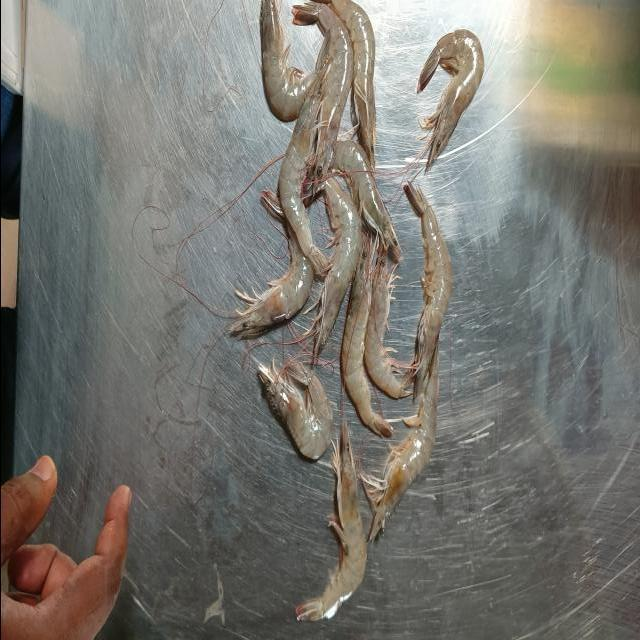shrimp: (362, 348, 438, 538), (295, 423, 365, 620), (229, 190, 312, 339), (291, 2, 352, 193), (278, 53, 326, 274), (340, 235, 392, 438), (404, 184, 451, 398), (416, 29, 484, 170), (312, 177, 361, 361), (334, 139, 401, 263), (330, 0, 375, 168), (362, 243, 410, 398), (258, 363, 332, 458), (260, 0, 315, 122)
